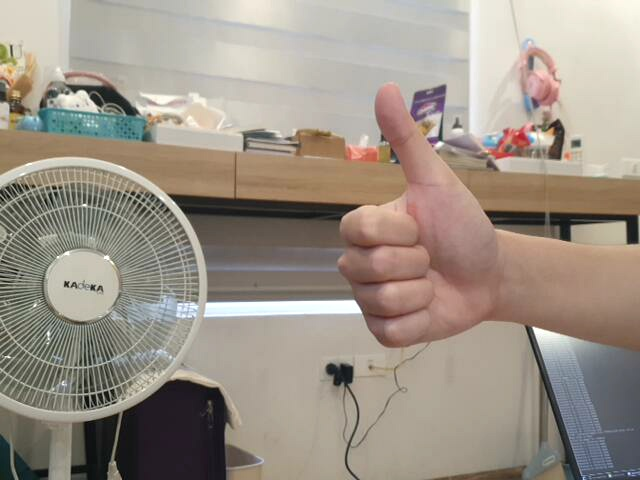ThumbsUp: (330, 79, 503, 353)
